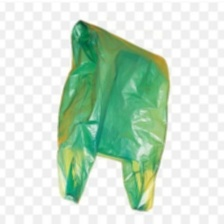plastic_bag: (54, 15, 170, 217)
